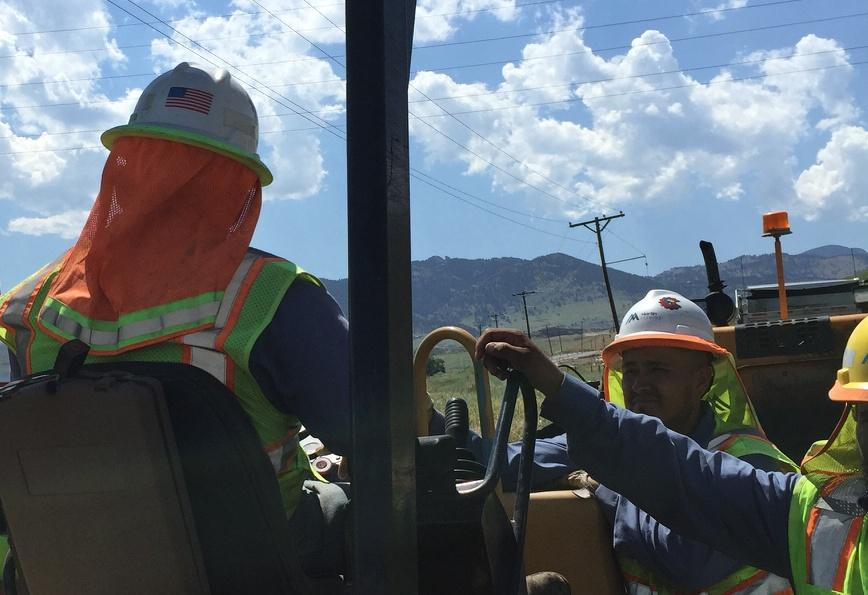helmet: (98, 67, 275, 184), (613, 292, 726, 357), (825, 310, 866, 404)
